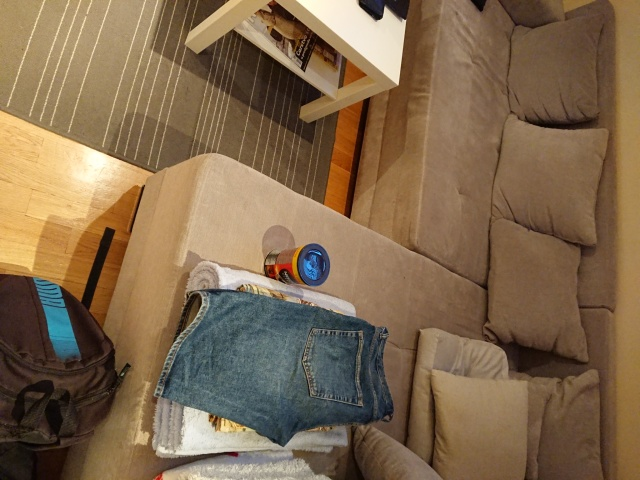Nescafe Classic 225g: (261, 241, 333, 290)
